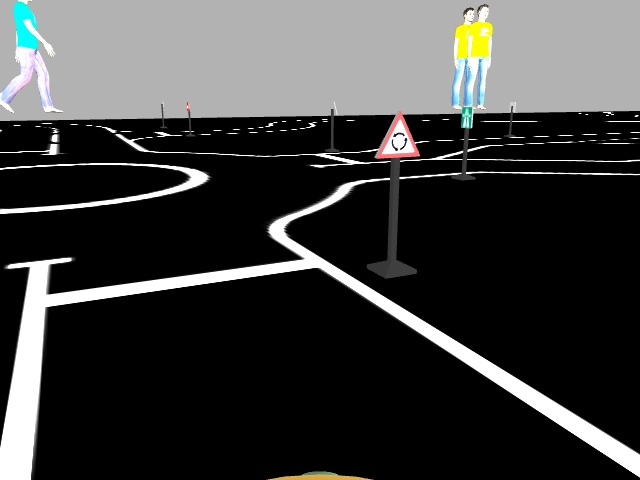HighwayEntrance: (458, 103, 475, 128)
Roundabout: (368, 109, 422, 162)
